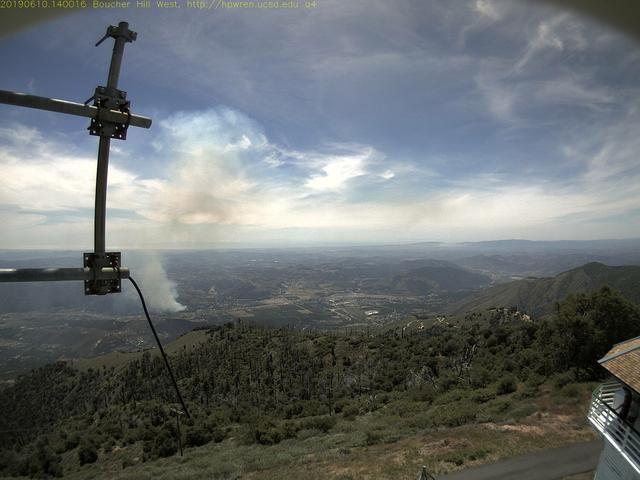smoke: (127, 151, 245, 313)
